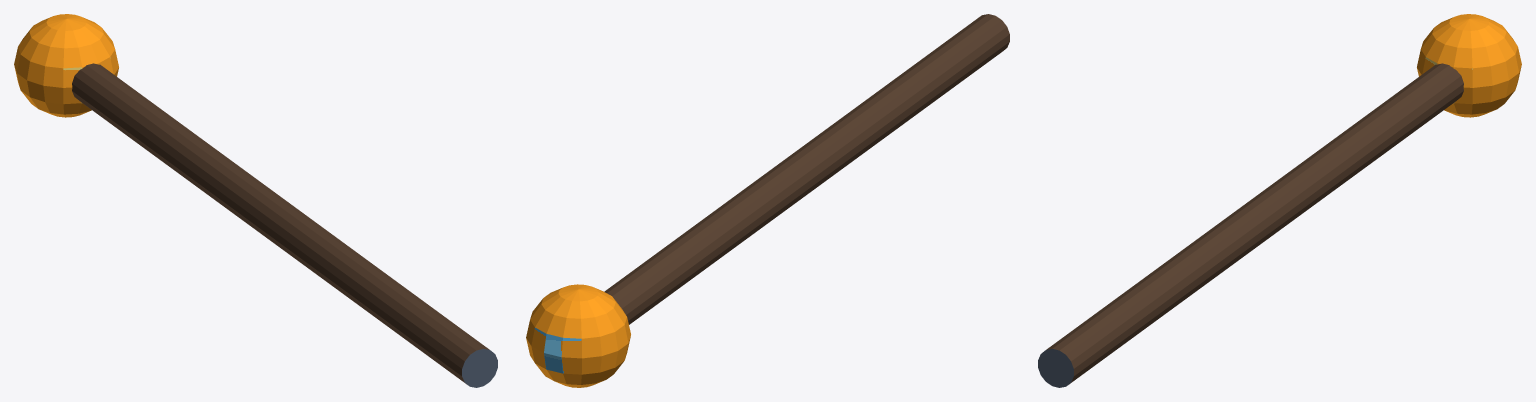
File: staff.gltf
3 views of the same model, side by side, from view 1: azimuth 30°, elevation 25°; view 2: azimuth 150°, elevation 25°; view 3: azimuth 330°, elevation 25° (orthographic).
Parts seen in each view (by area): view 1: cylinder, sphere; view 2: cylinder, sphere; view 3: cylinder, sphere.
Part boxes in pixels (box(x1,y1,x2,y2)): cylinder: box(72, 63, 497, 387); sphere: box(14, 14, 118, 117); cylinder: box(604, 14, 1009, 324); sphere: box(526, 284, 630, 387); cylinder: box(1038, 63, 1463, 387); sphere: box(1417, 14, 1521, 117).
Size of the model in its own units: 0.3125 by 0.3125 by 2.66.
1 material, 1 textured.
